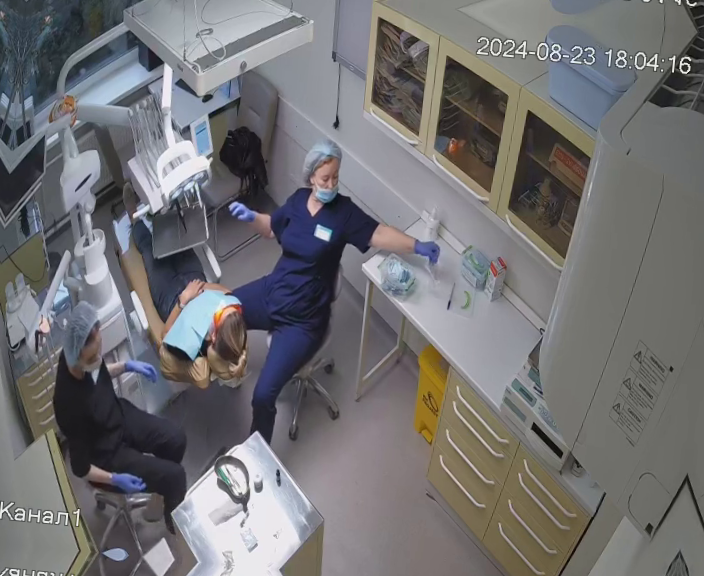Patient: (91, 194, 267, 396)
